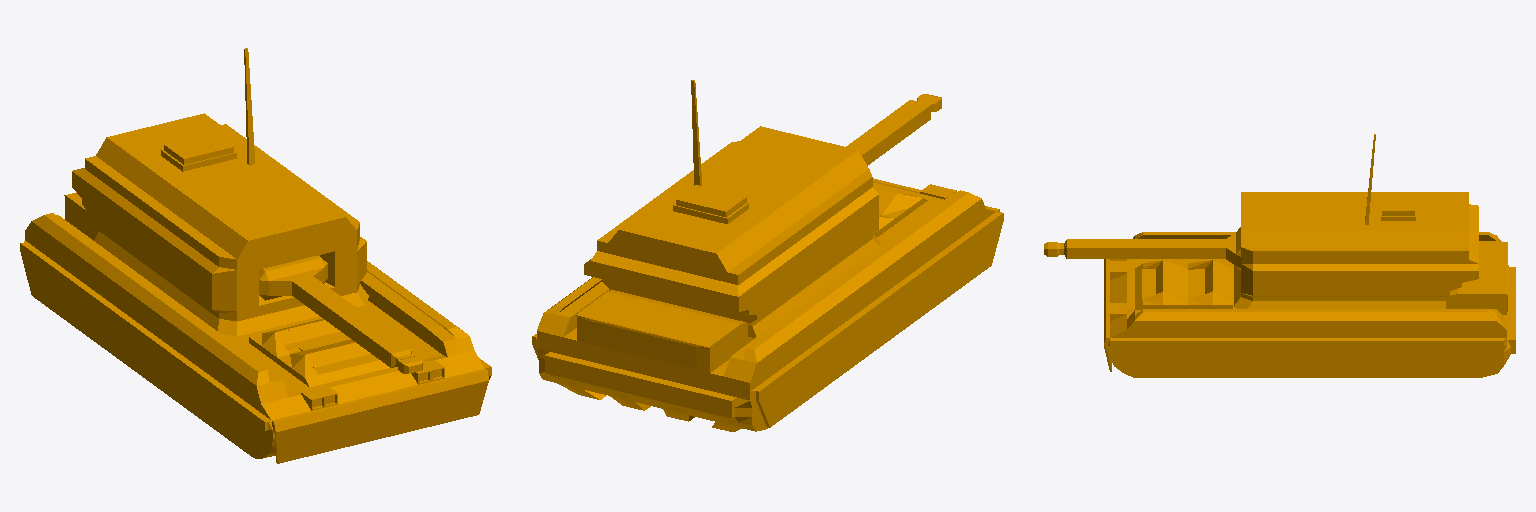
robot.urdf — mesh_object:
<robot name="mesh_object">
            <link name="base">
                <visual>
                    <geometry>
                        <mesh filename="barge_4_v000.obj" scale="1 1 1" />
                    </geometry>
                </visual>
                <collision>
                    <geometry>
                        <mesh filename="barge_4_v000.obj" scale="1 1 1" />
                    </geometry>
                </collision>
                <inertial>
                    <origin xyz="0.000000 0.000000 0.043309" rpy="0 0 0" />
                    <mass value="0.500000" />
                    <inertia ixx="0.01" iyy="0.01" izz="0.01" ixy="0" ixz="0" iyz="0" />
                </inertial>
            </link>
            </robot>

--- What the picture shows (computed from the rendered views, not written in the file) ---
The picture shows the robot from 3 angles, left to right: view 1: azimuth 30°, elevation 25°; view 2: azimuth 150°, elevation 25°; view 3: azimuth 270°, elevation 25°; orthographic projection.
Robot: mesh_object — 1 links, 0 joints (none); root link base; default pose: all joints at 0.
Visible links, largest first — view 1: base; view 2: base; view 3: base.
Link boxes in pixels (x1=…): base: x1=20, y1=48, x2=491, y2=463; base: x1=532, y1=80, x2=1003, y2=431; base: x1=1044, y1=134, x2=1515, y2=377.
Bounding box of the posed robot: 0.0543 × 0.1214 × 0.0628 m (x, y, z).
Meshes: 1 distinct files referenced, 1 mesh visuals loaded (1 OBJ).
